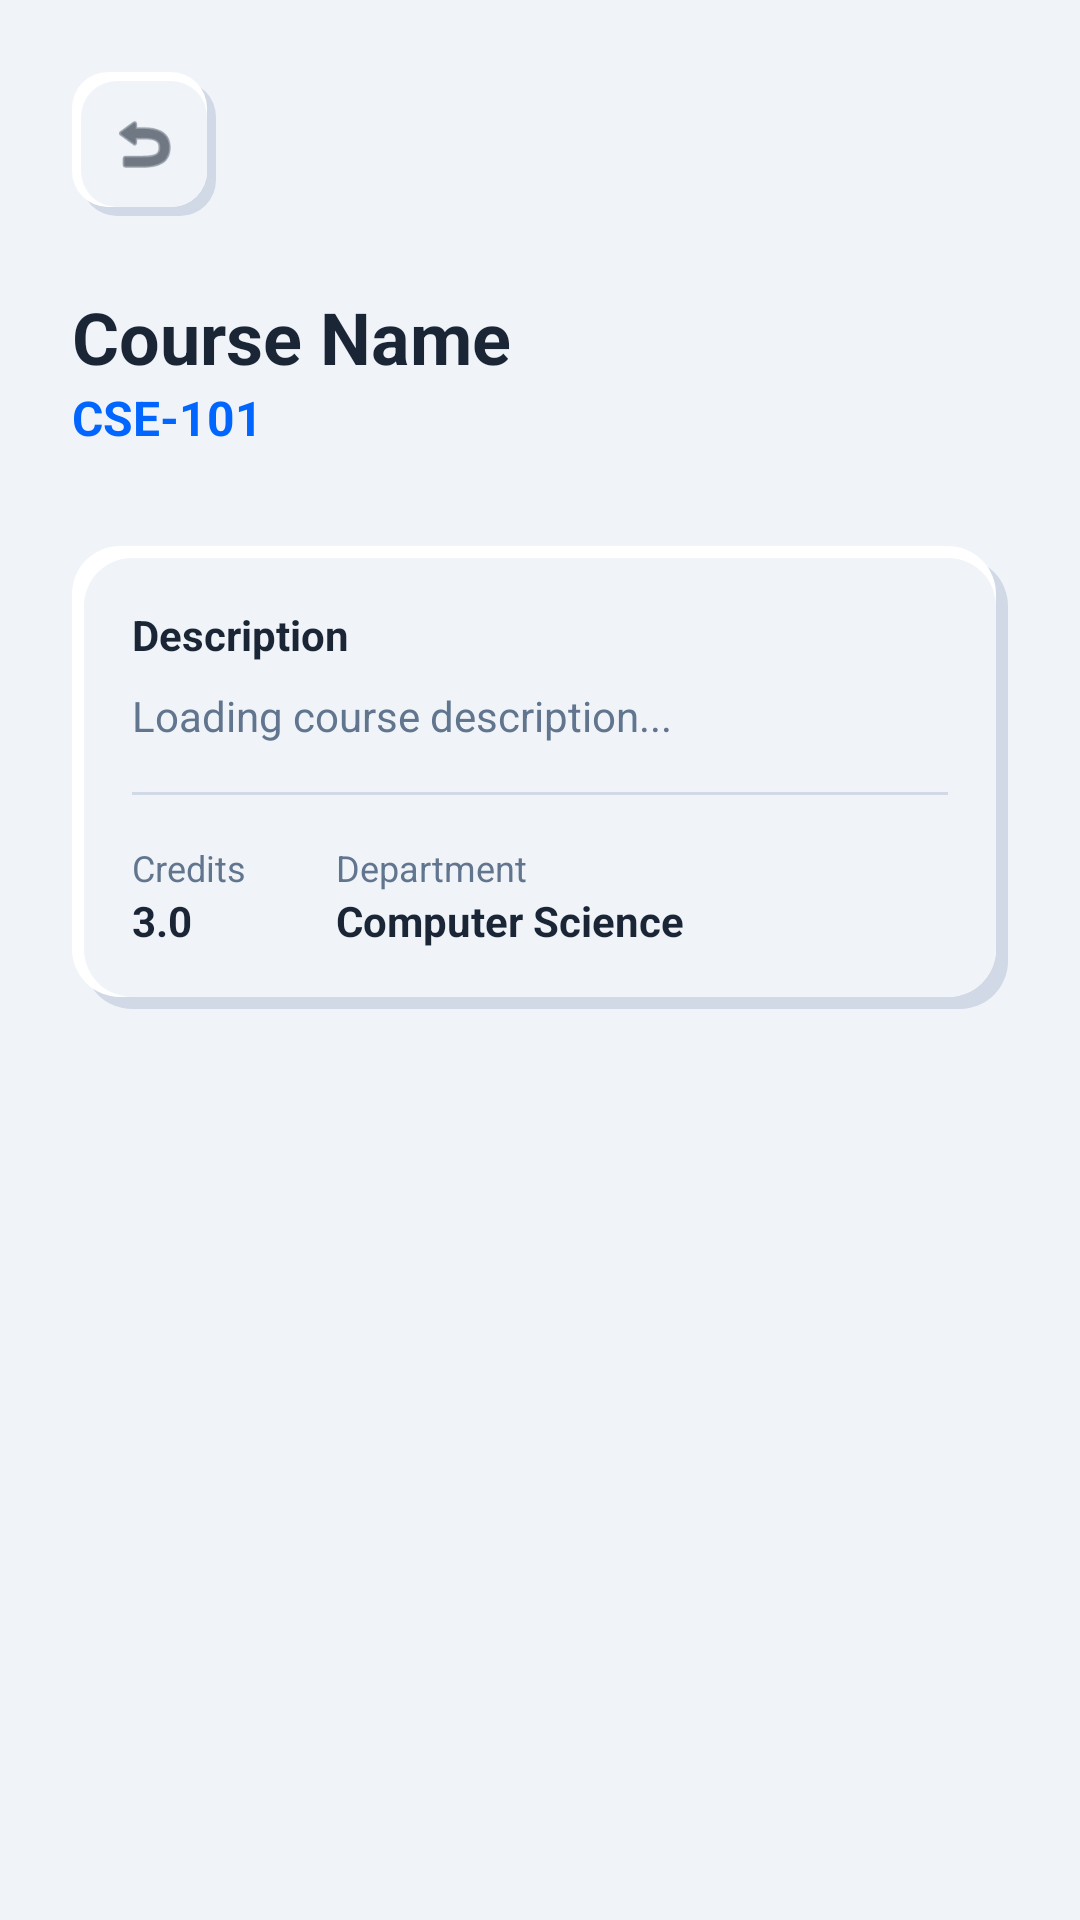

Where icons sit on this 1080 × 1920 app screen, as (x1, y1, x2, y2):
revert: (119, 121, 171, 168)
